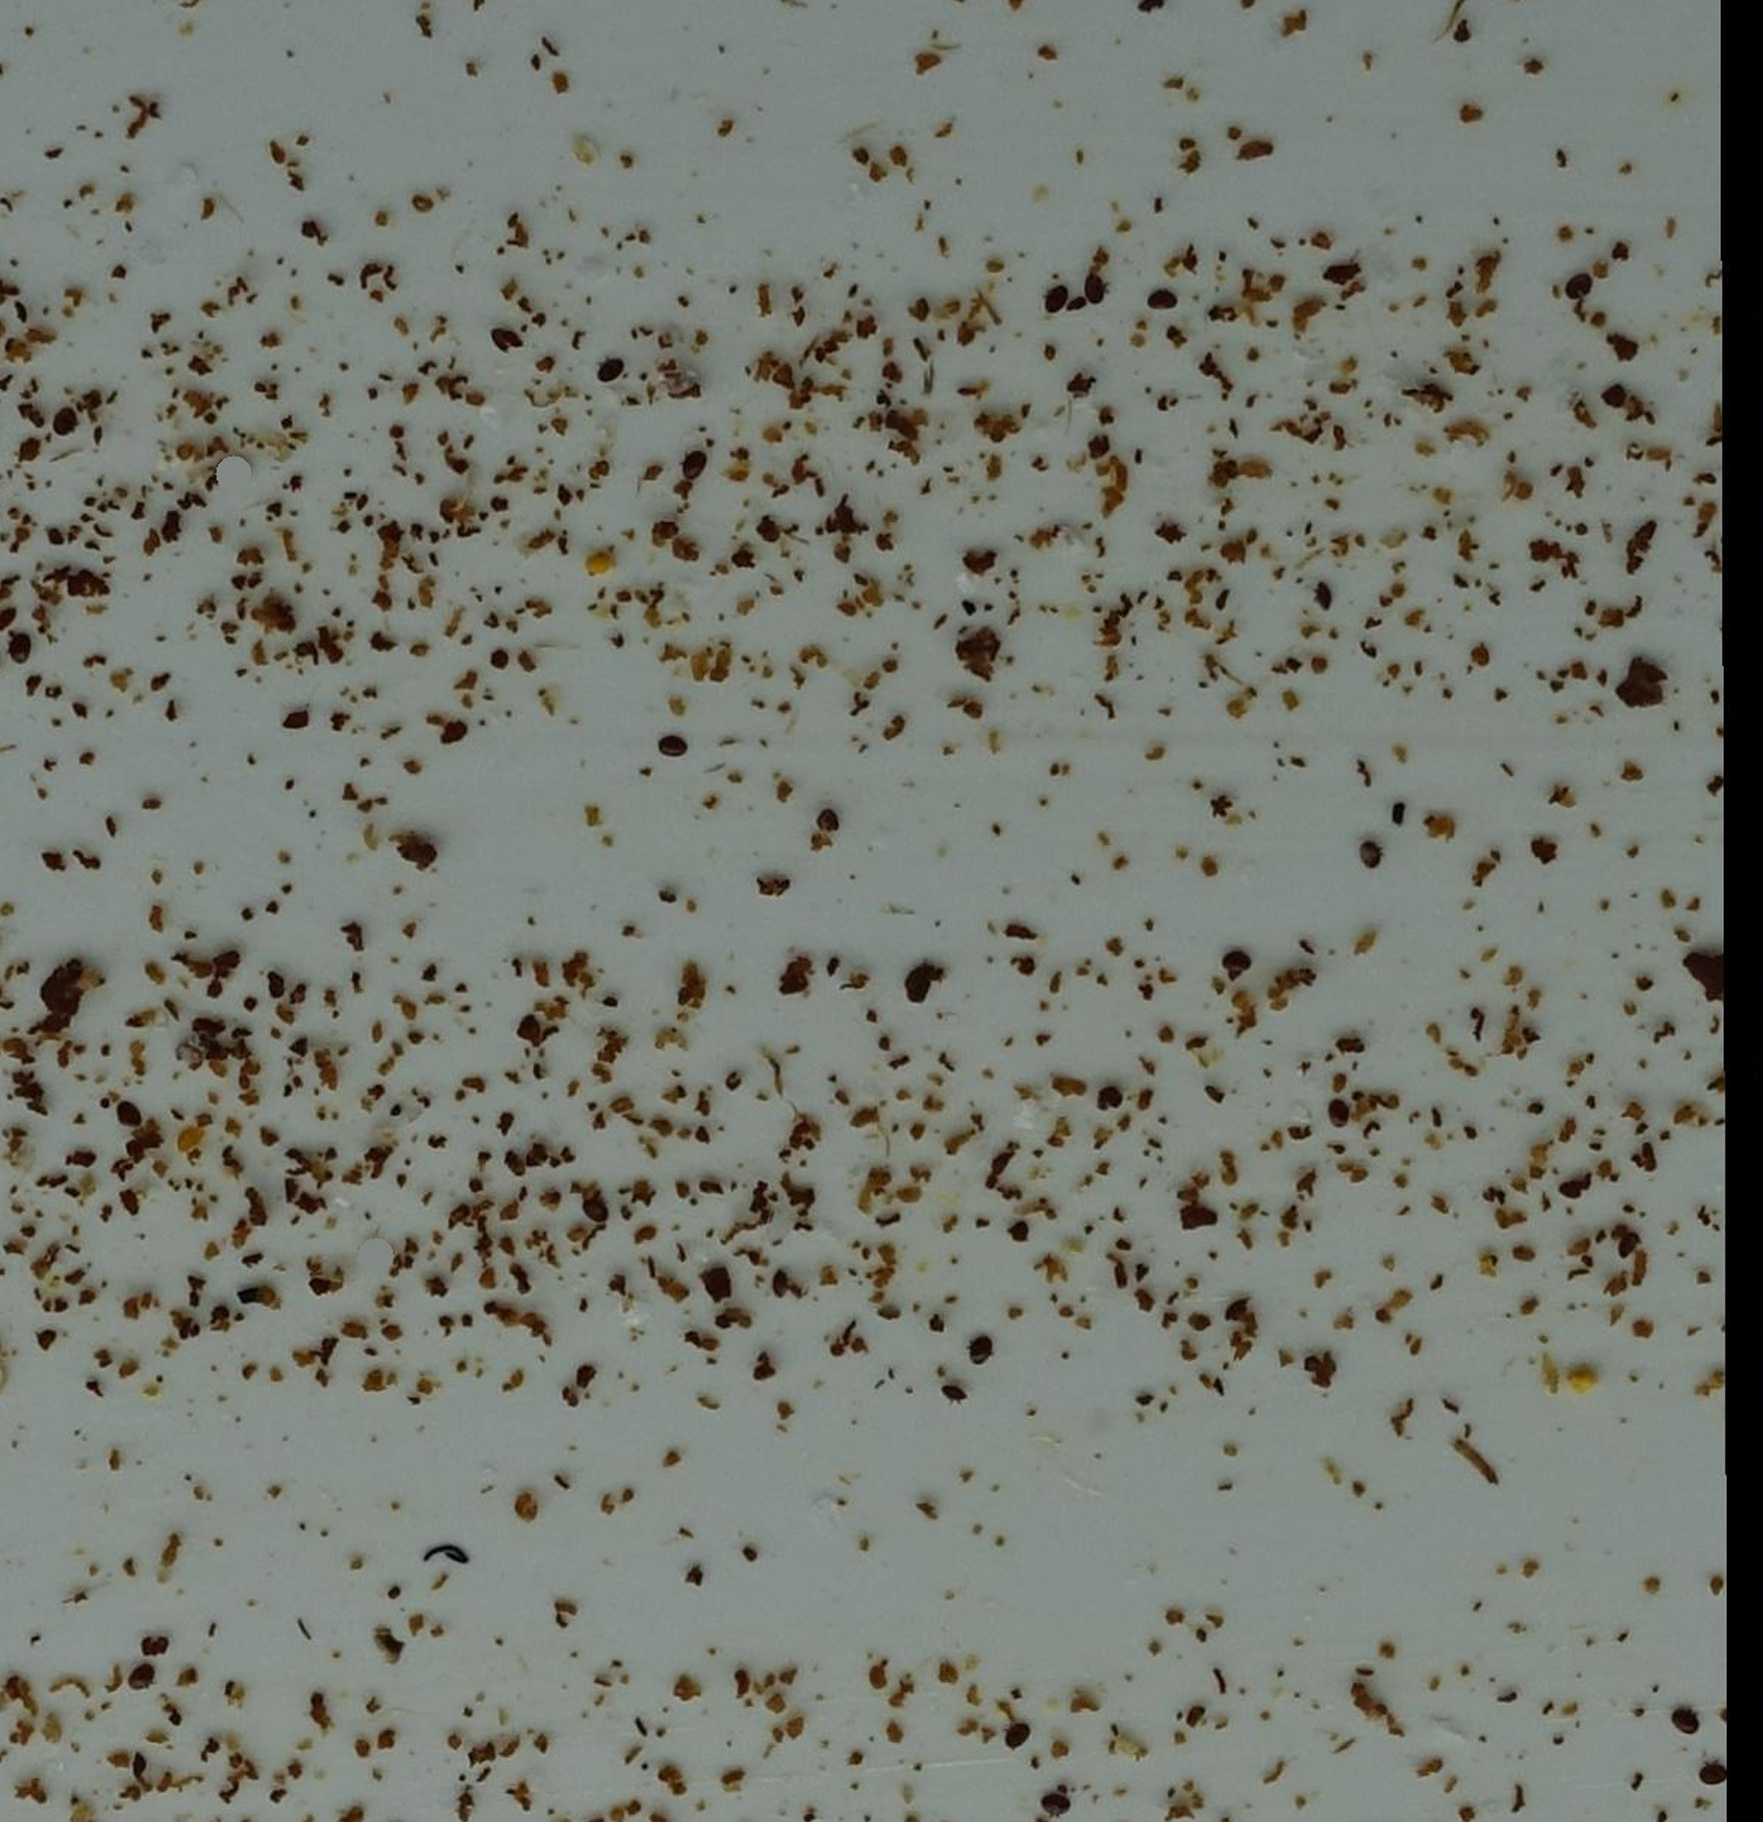Varroa: (1303, 574, 1345, 618), (938, 1376, 974, 1410), (1695, 1757, 1729, 1793), (46, 412, 80, 447), (1221, 952, 1254, 987), (657, 734, 690, 766), (966, 1332, 997, 1366), (677, 451, 707, 485), (127, 1663, 158, 1697), (1143, 291, 1174, 324), (1670, 1711, 1701, 1742), (764, 1271, 795, 1301), (1563, 270, 1592, 303), (1039, 285, 1069, 317), (1329, 1093, 1358, 1126), (1046, 1791, 1077, 1820), (490, 319, 519, 350), (1080, 273, 1109, 304), (1612, 1228, 1639, 1261), (1355, 838, 1384, 867), (11, 634, 41, 664), (115, 1105, 143, 1132), (594, 360, 621, 386), (581, 1191, 608, 1217), (1003, 1721, 1030, 1747)
